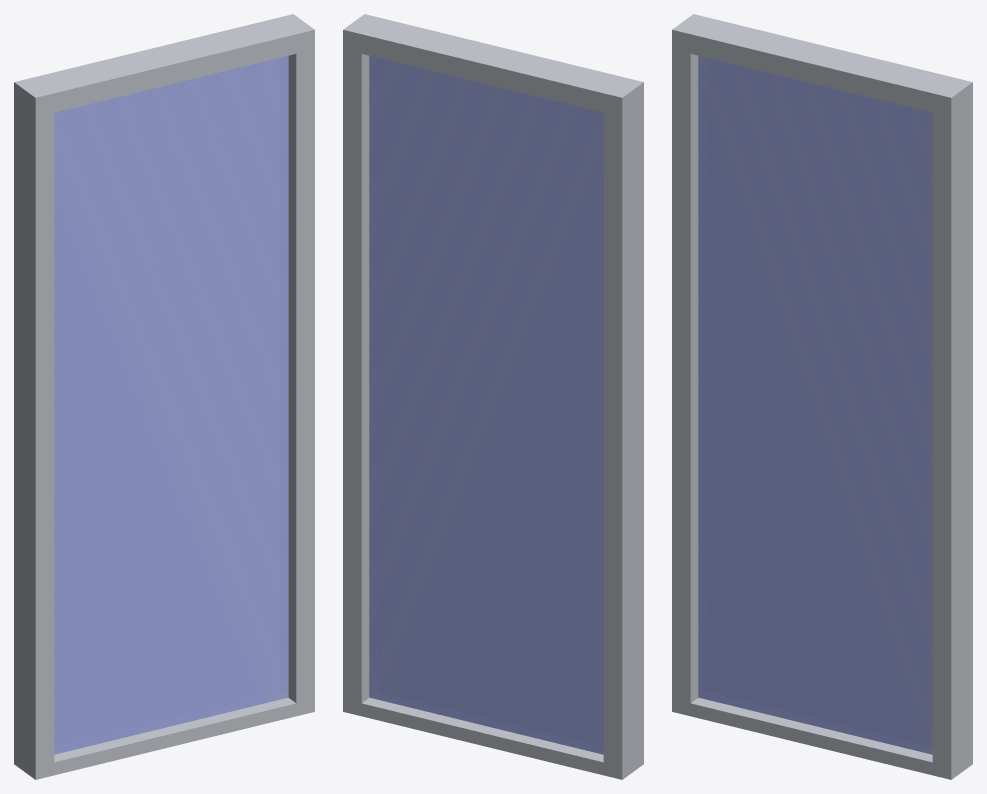
3 renders of one model, left to right at view 1: azimuth 30°, elevation 25°; view 2: azimuth 150°, elevation 25°; view 3: azimuth 330°, elevation 25°, orthographic.
Parts seen in each view (by area): view 1: door_glass, frame; view 2: door_glass, frame; view 3: door_glass, frame.
Part boxes in pixels (x1,y1,x2,y2): door_glass: [54, 55, 288, 754]; frame: [14, 14, 314, 779]; door_glass: [369, 55, 603, 754]; frame: [343, 14, 643, 779]; door_glass: [698, 55, 932, 754]; frame: [672, 14, 972, 779].
Size of the model in its own units: 0.9 by 2.1 by 0.12.
2 materials, 1 textured.
